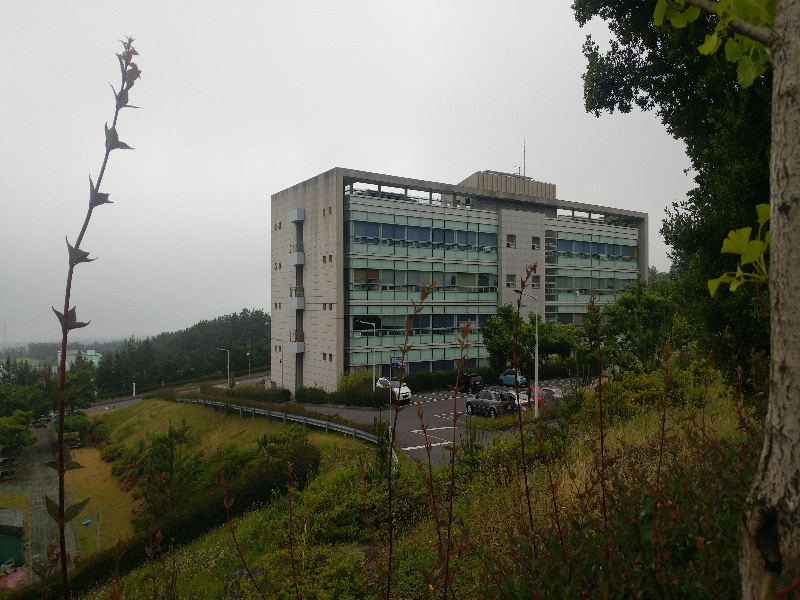College of Marine Science: (276, 151, 650, 353), (265, 154, 496, 364)
